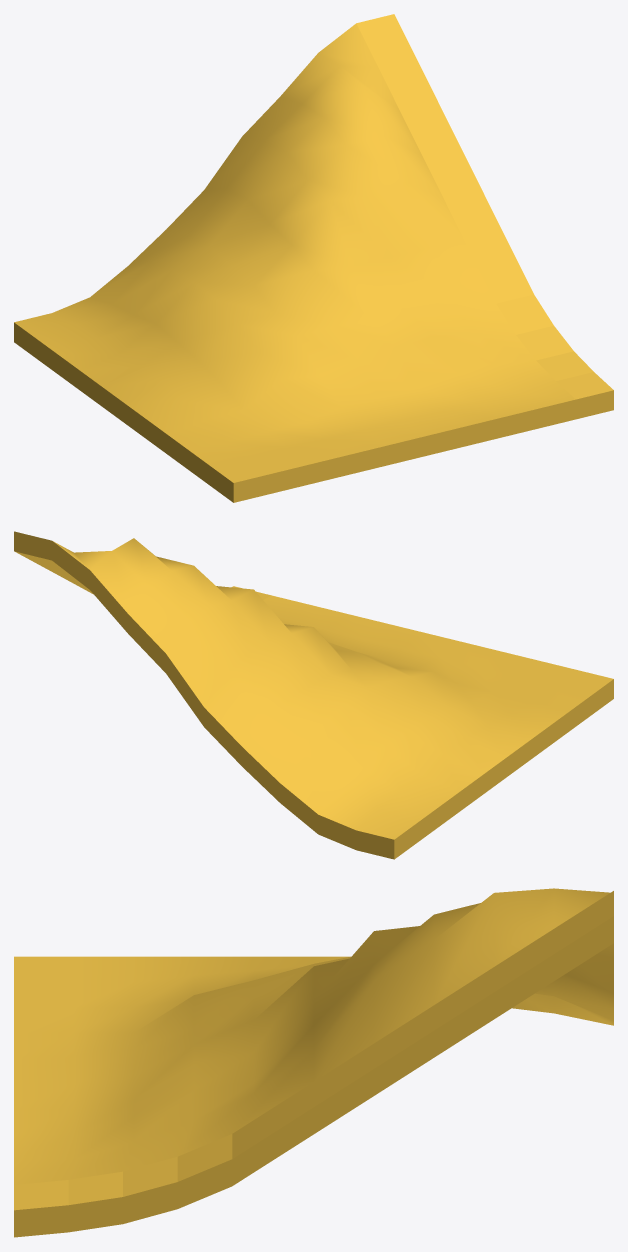
Rendered from Steil - Unten - Ecke a - x.fbx.
3 renders of one model, top to bottom at view 1: azimuth 30°, elevation 25°; view 2: azimuth 150°, elevation 25°; view 3: azimuth 270°, elevation 25°, orthographic. The views are drawn at different scales.
Parts seen in each view (by area): view 1: Steil - Unten - Ecke a - x; view 2: Steil - Unten - Ecke a - x; view 3: Steil - Unten - Ecke a - x.
Boxes of the visible parts, bbox=[...] form: Steil - Unten - Ecke a - x: bbox=[14, 14, 613, 502]; Steil - Unten - Ecke a - x: bbox=[14, 531, 613, 859]; Steil - Unten - Ecke a - x: bbox=[14, 888, 613, 1237].
Bounding box in the file's own units: 394 × 233 × 394.
